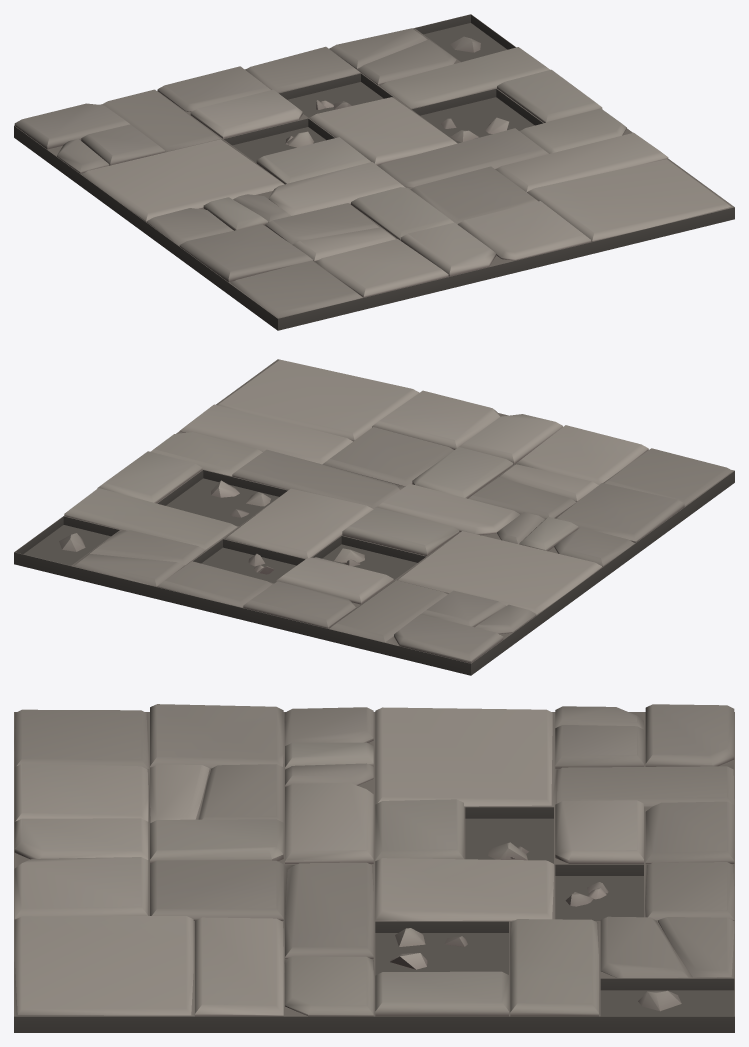
File: floor_flagstones_ruined_large_B.glb
The picture shows the model from 3 angles, top to bottom: view 1: azimuth 30°, elevation 25°; view 2: azimuth 150°, elevation 25°; view 3: azimuth 270°, elevation 25°; orthographic projection. The views are drawn at different scales.
Visible parts, largest first — view 1: Item; view 2: Item; view 3: Item.
Boxes of the visible parts, bbox=[...] form: Item: bbox=[14, 14, 734, 330]; Item: bbox=[14, 359, 734, 675]; Item: bbox=[14, 704, 734, 1032].
Bounding box in the file's own units: 4 × 0.1726 × 4.
Materials: 1 (1 with a texture image).
